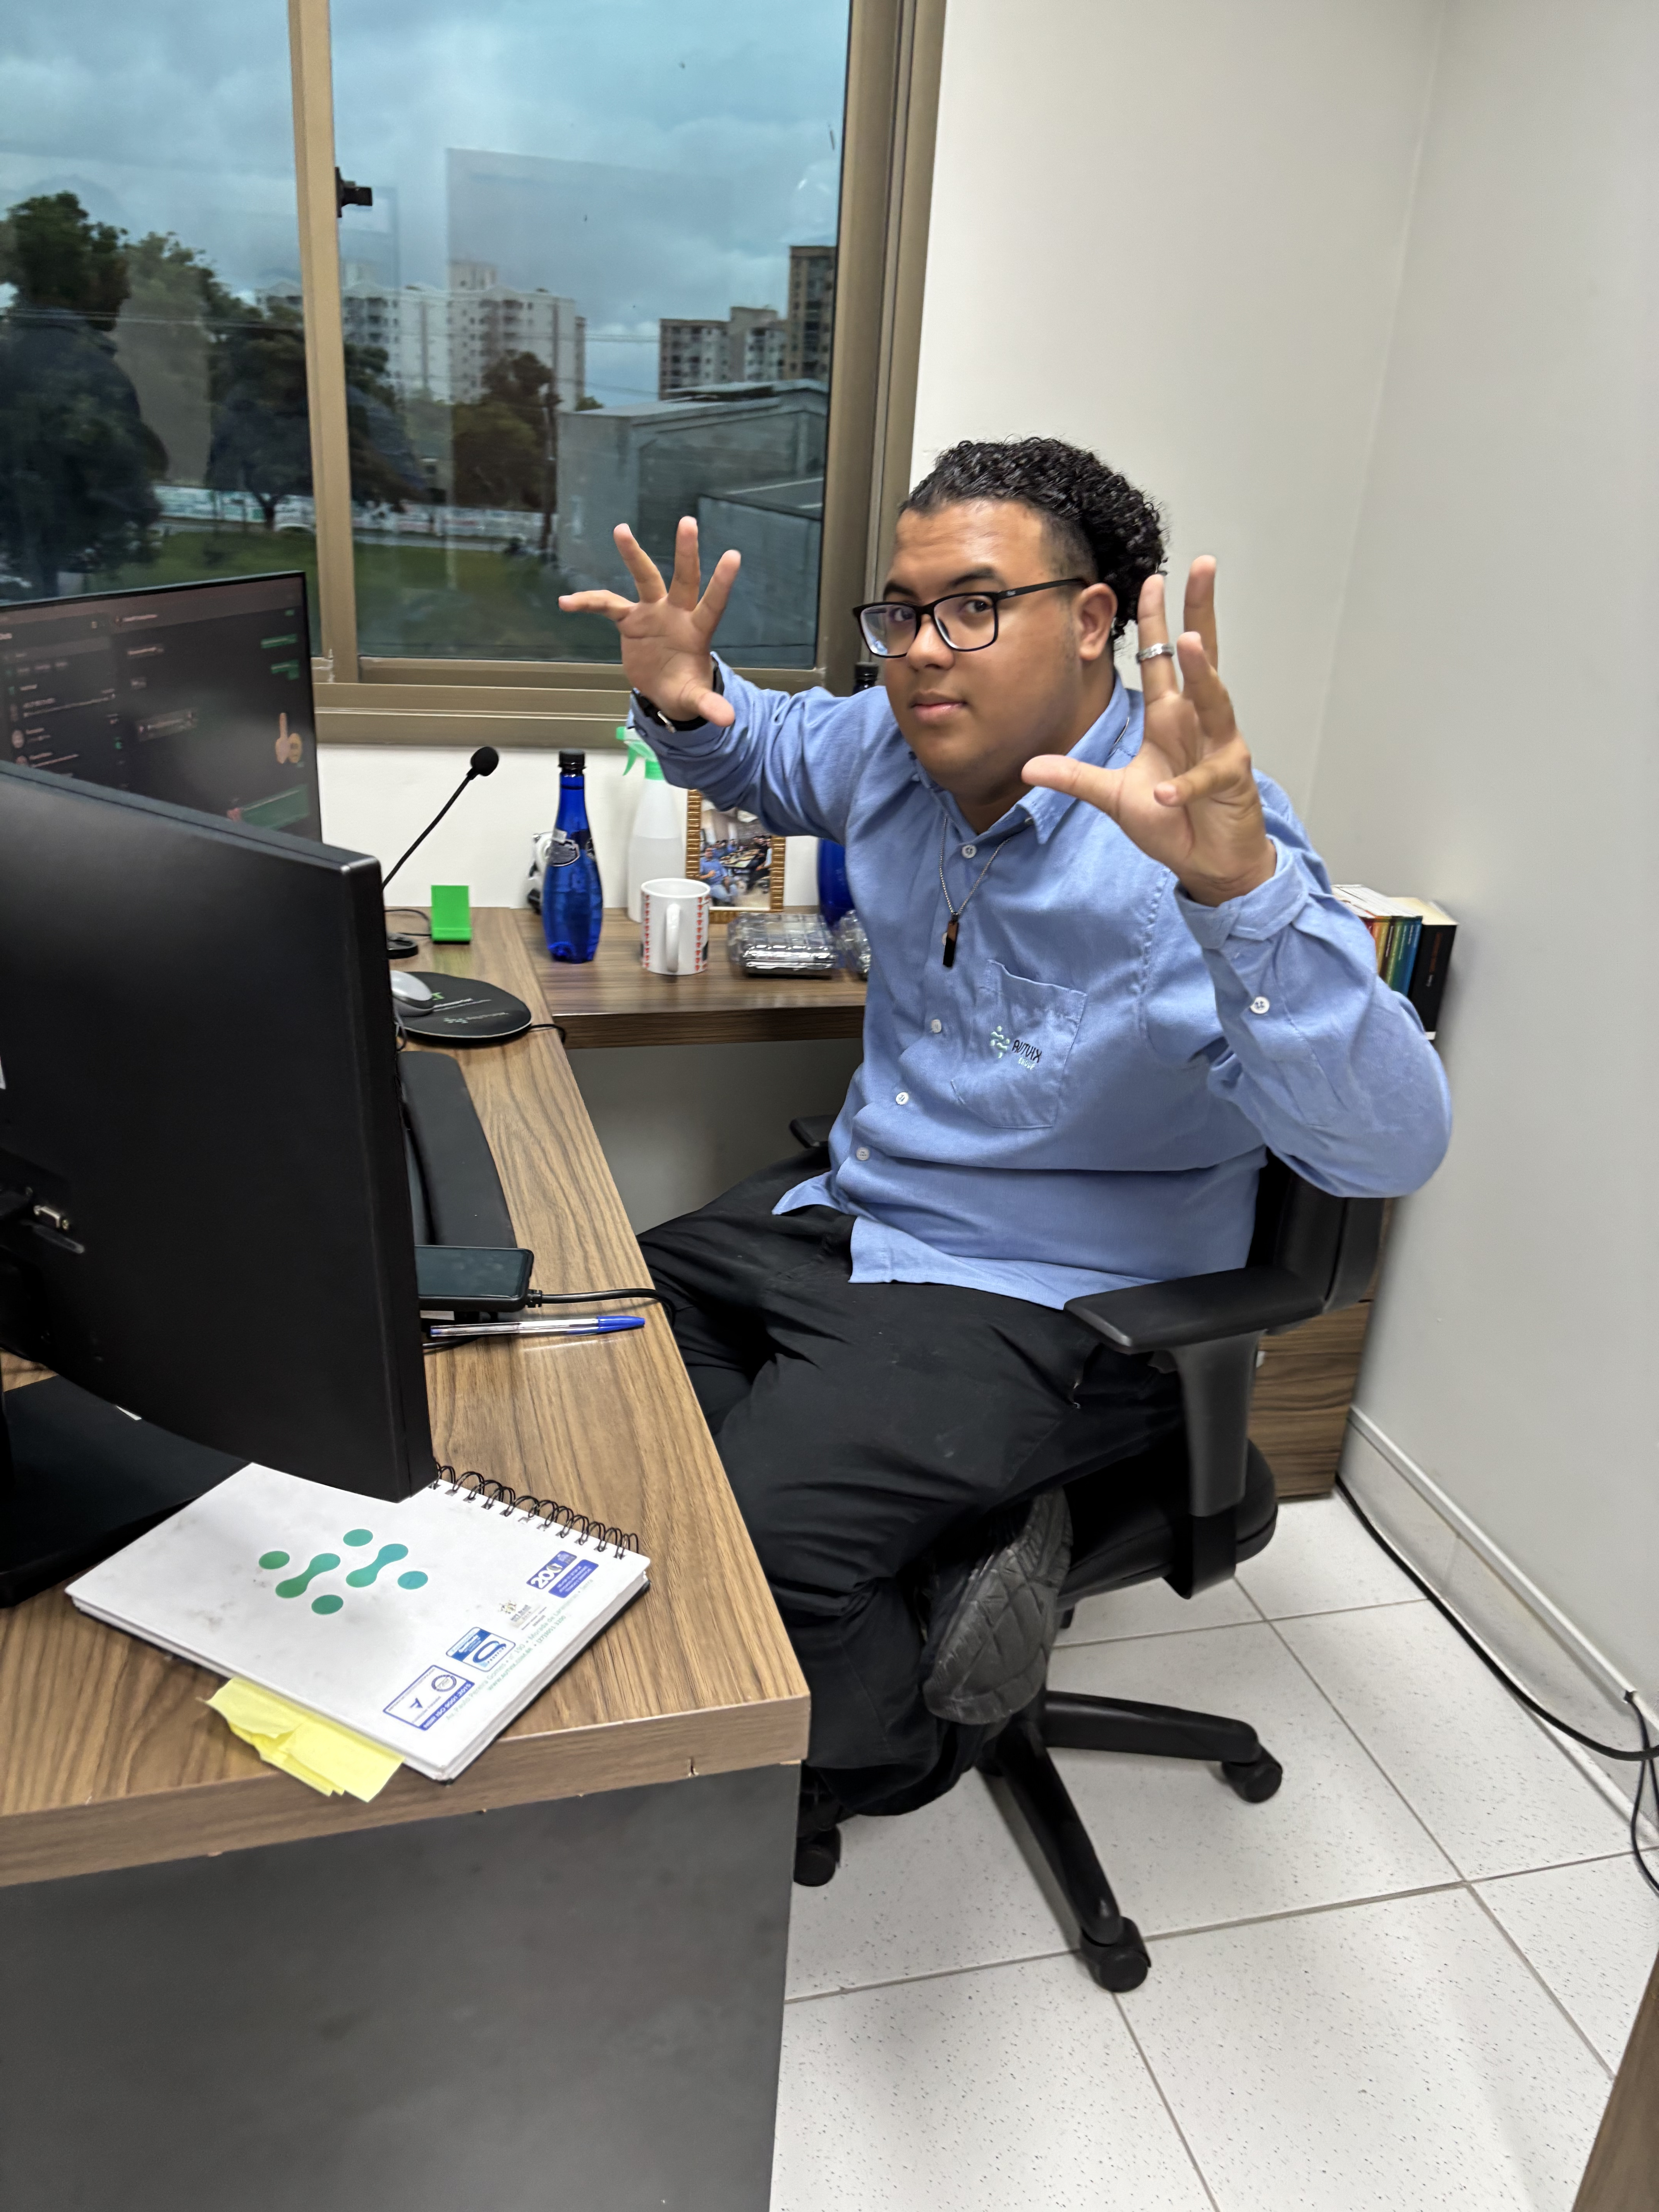no-gloves: (1016, 564, 1269, 873), (558, 512, 742, 723)
